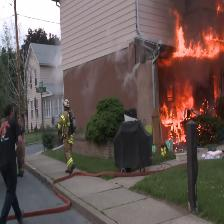fire: (153, 4, 224, 150)
smoke: (170, 0, 224, 37)
